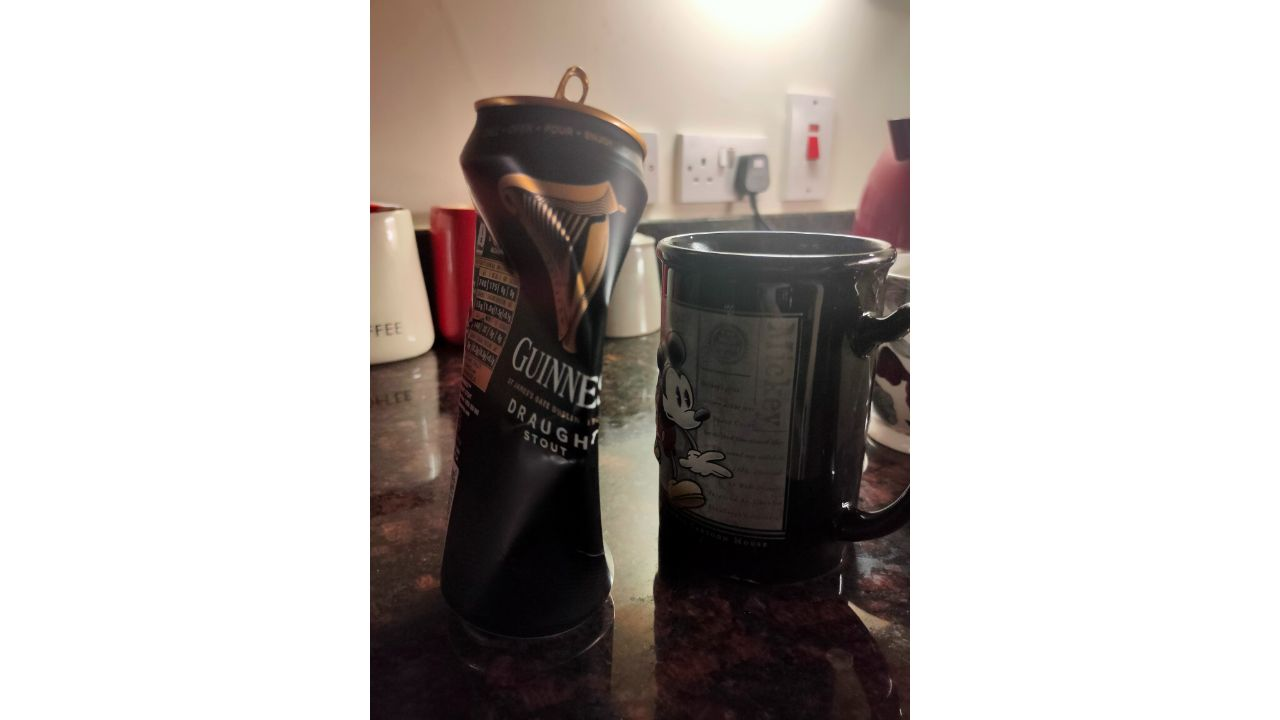Can: (442, 64, 648, 636)
